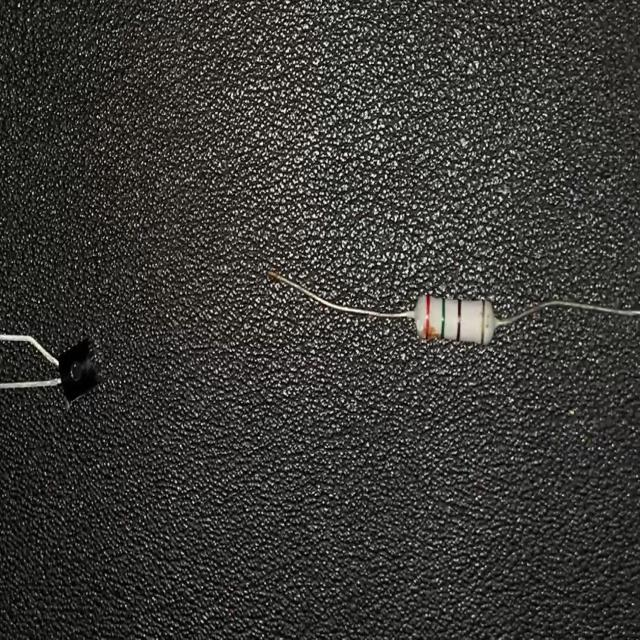burnt: (414, 320, 439, 344)
missing-leg: (0, 329, 103, 405)
resistor: (263, 259, 640, 354)
